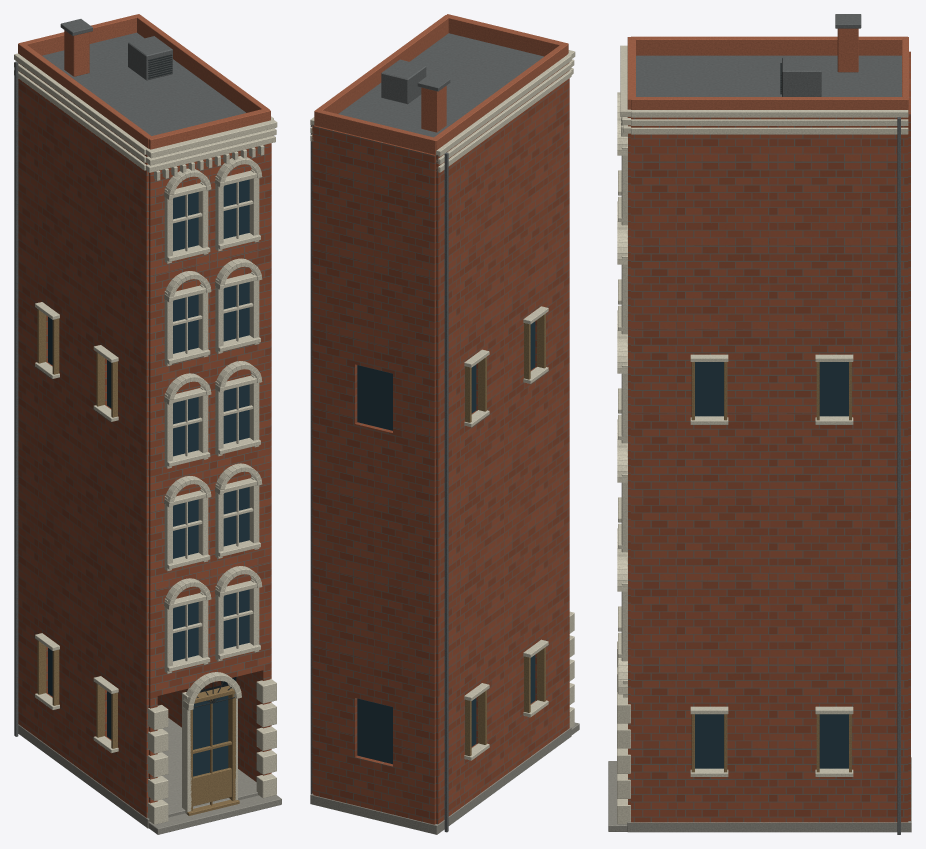
Rendered from OFFC2_lod1.glb.
The picture shows the model from 3 angles, left to right: view 1: azimuth 30°, elevation 25°; view 2: azimuth 150°, elevation 25°; view 3: azimuth 270°, elevation 25°; orthographic projection. The views are drawn at different scales.
Parts seen in each view (by area): view 1: OFFC2_LOD1; view 2: OFFC2_LOD1; view 3: OFFC2_LOD1.
Part boxes in pixels (x1,y1,x2,y2): OFFC2_LOD1: [14, 14, 281, 834]; OFFC2_LOD1: [310, 14, 579, 834]; OFFC2_LOD1: [608, 14, 911, 834].
Bounding box in the file's own units: 3.71 × 18.25 × 6.57.
Materials: 9 (7 with a texture image).
